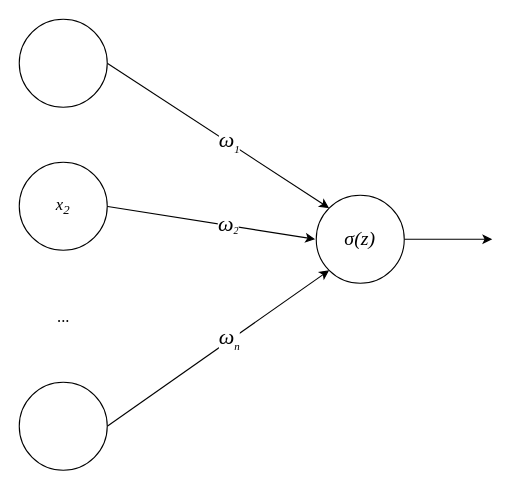
This 520x490 diagram has some shape labels left out. Each missing label, with the centre of its shape:
"x 1" belongs at (x=62, y=62).
"x n" belongs at (x=62, y=425).
